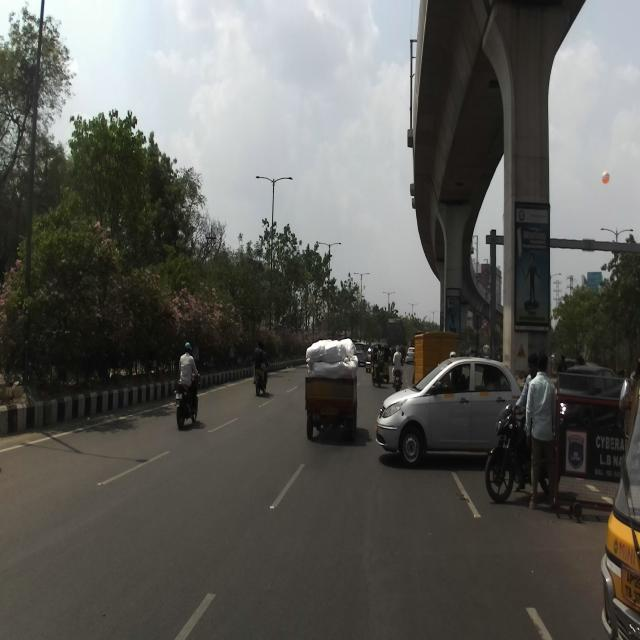Car_TATA: (375, 354, 520, 469)
autorickshaw: (305, 336, 358, 439)
motorcycle_bajaj: (484, 404, 559, 504)
